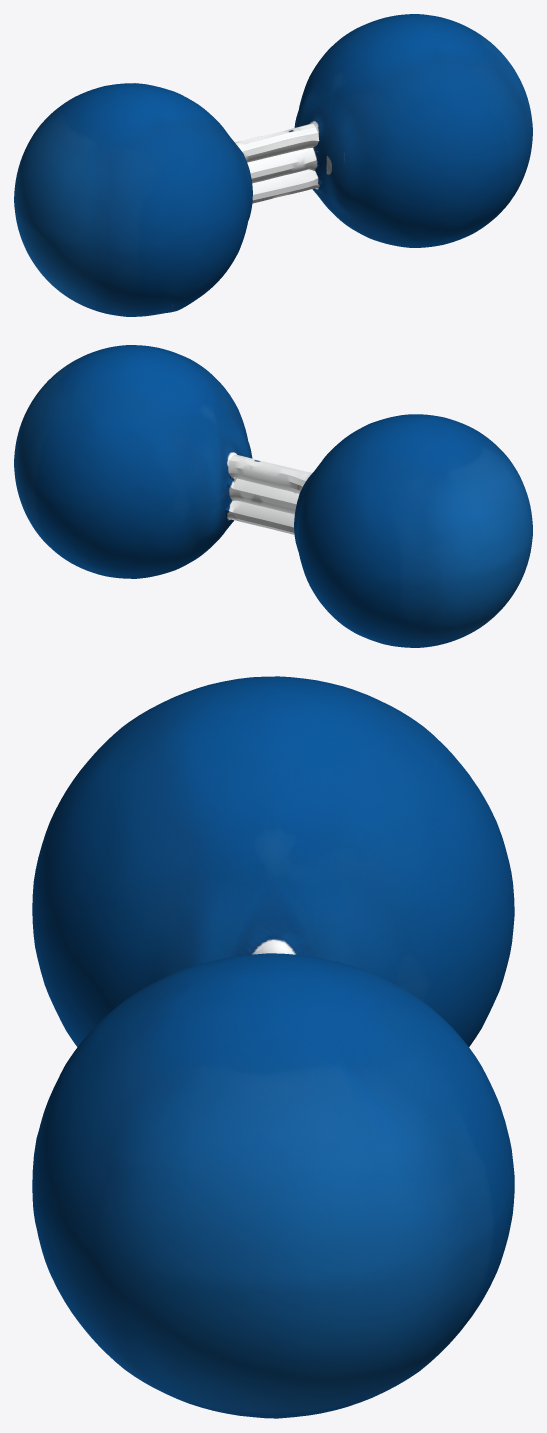
Rendered from Meshy_AI_n2_molecule_0407064640_texture.fbx.
3 renders of one model, top to bottom at view 1: azimuth 30°, elevation 25°; view 2: azimuth 150°, elevation 25°; view 3: azimuth 270°, elevation 25°, orthographic. The views are drawn at different scales.
Parts seen in each view (by area): view 1: output; view 2: output; view 3: output.
Part boxes in pixels (box(x1,y1,x2,y2)): output: box(14, 14, 532, 316); output: box(14, 345, 532, 647); output: box(32, 676, 514, 1418).
Bounding box in the file's own units: 192 × 79.69 × 82.52.
Materials: 1 (1 with a texture image).
